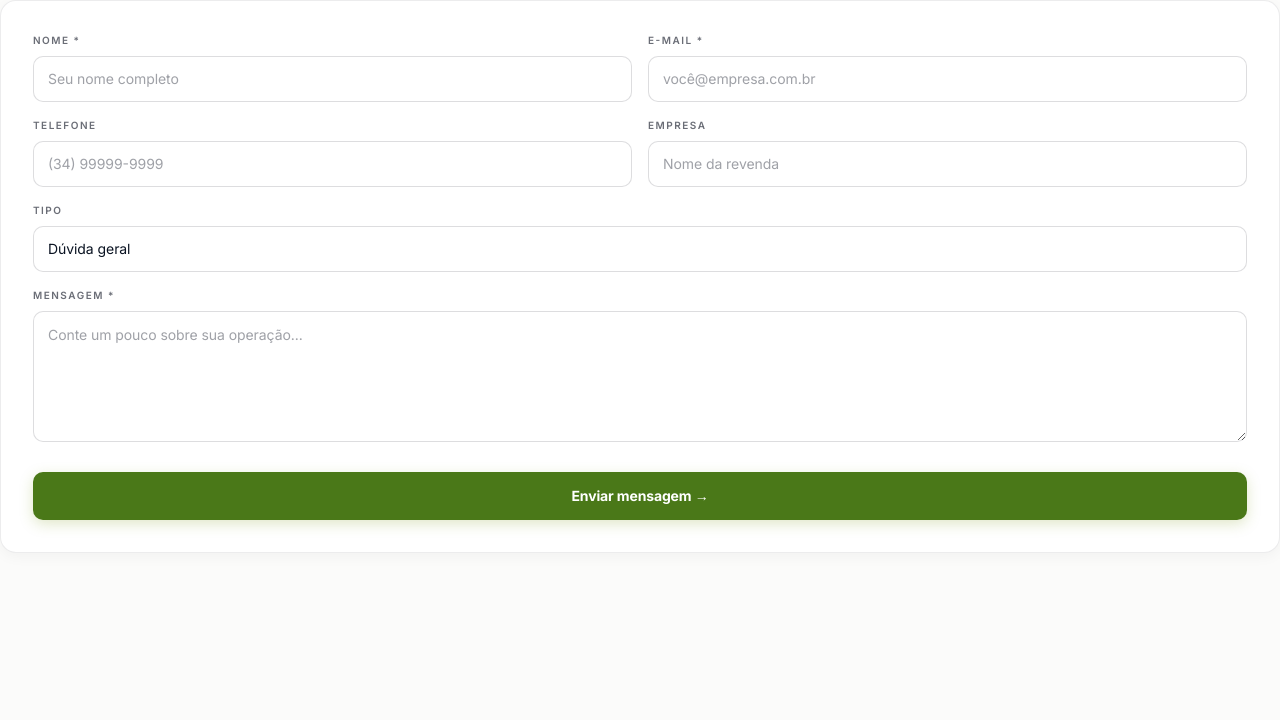
Test: <ContactForm> › shows error message when API returns non-ok
Type "Erro" into the field labelled "Nome *". click: (332, 79)
box: [33,56,632,102]
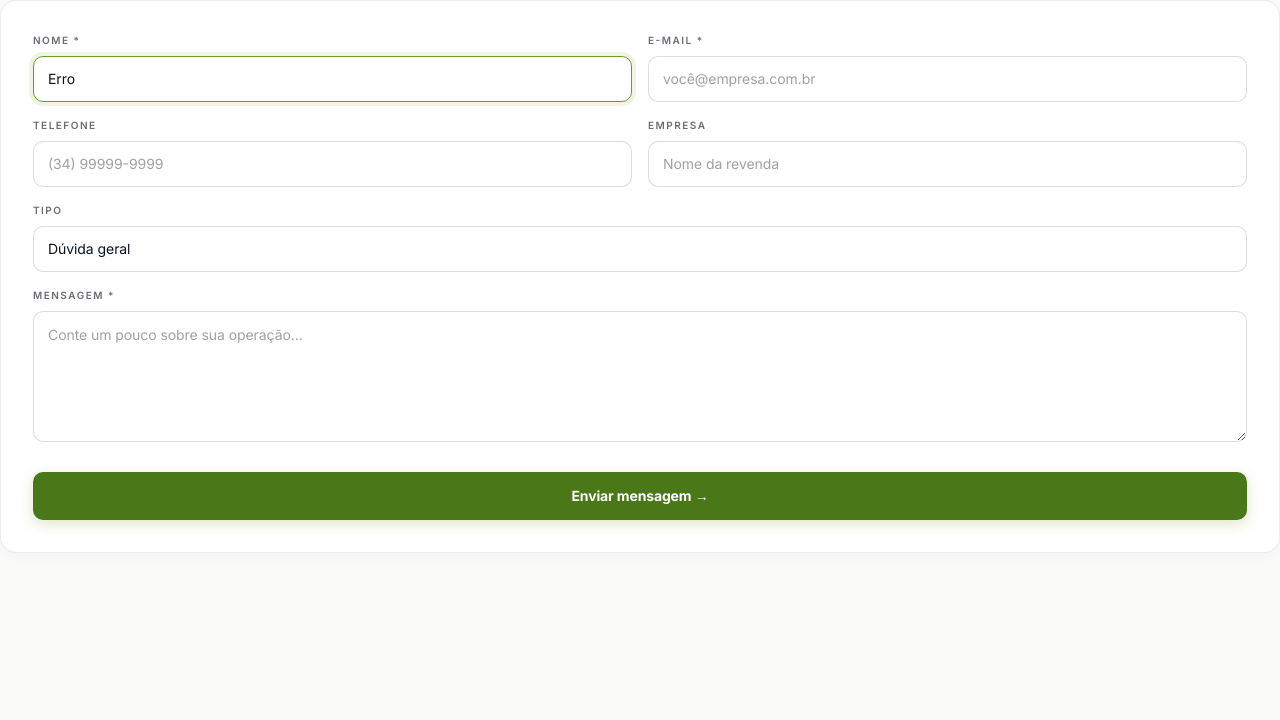
Type "erro@x.com" into the field labelled "E-mail *". click: (948, 79)
box: [648,56,1247,102]
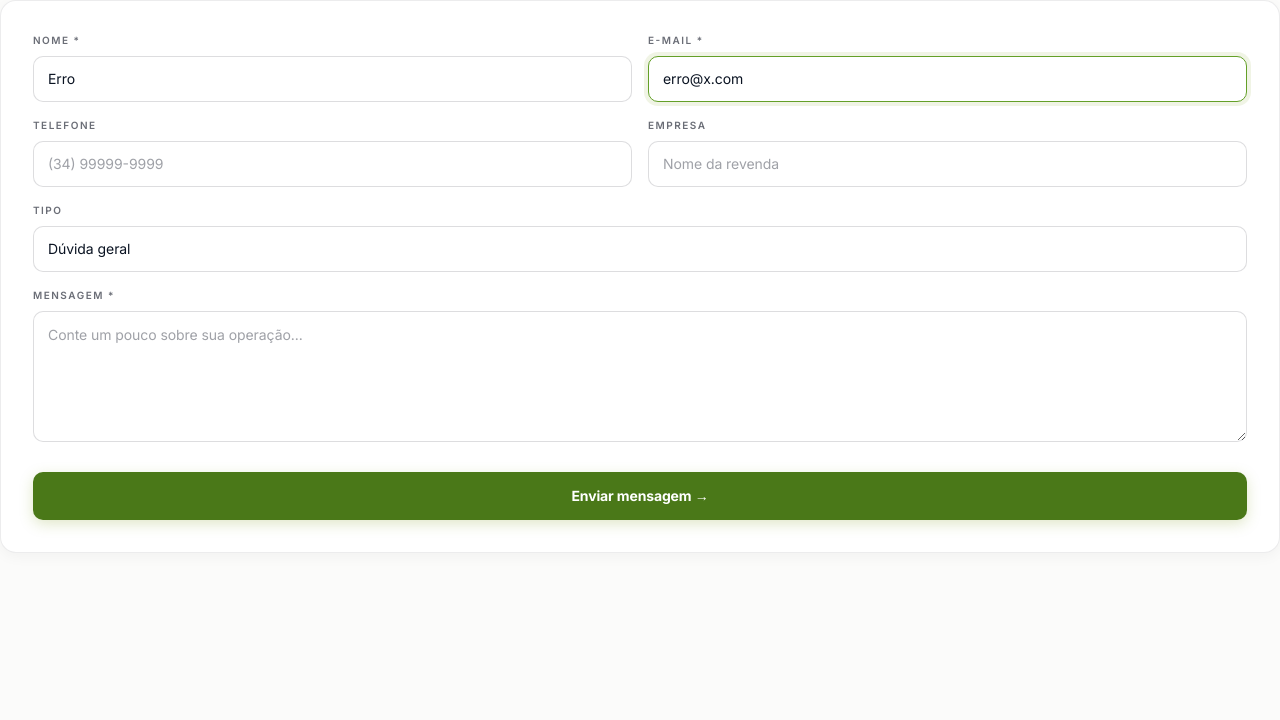
Type "Vai dar erro propositalmente." into the text box labelled "Mensagem *". click: (640, 376)
box: [33,311,1247,442]
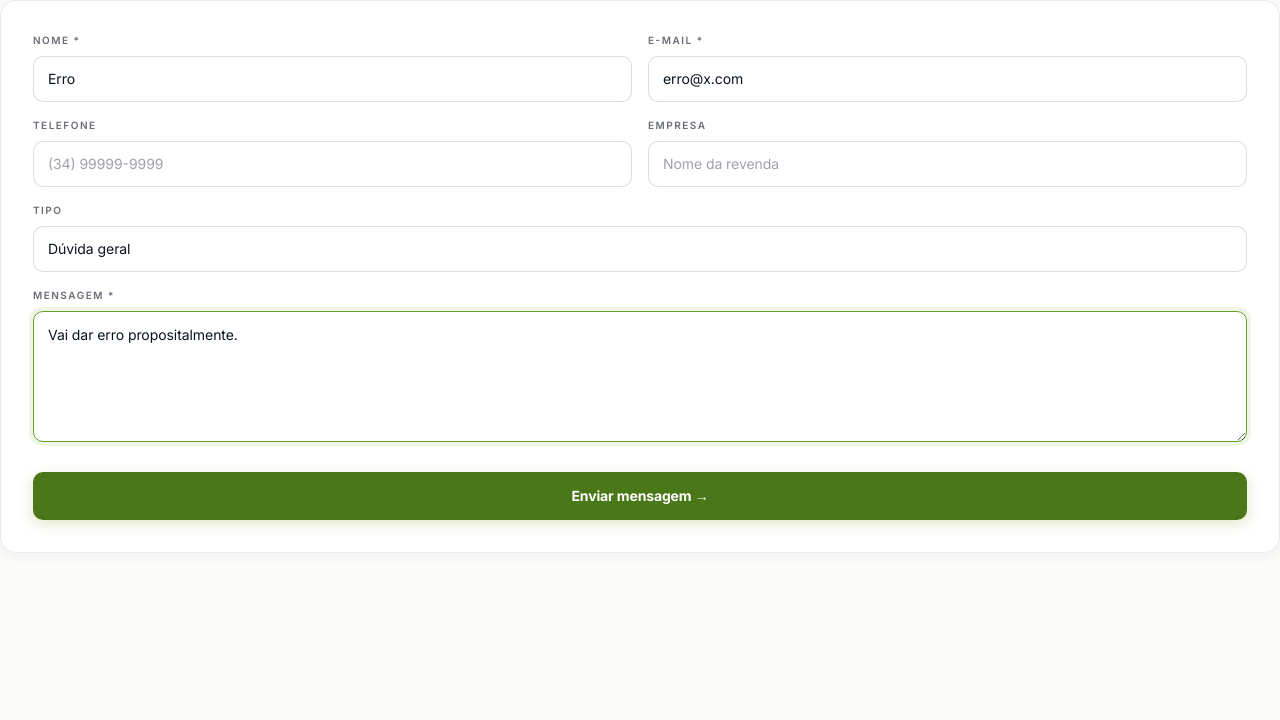
Click the button "Enviar mensagem →". click: (640, 496)
box: [33,472,1247,520]
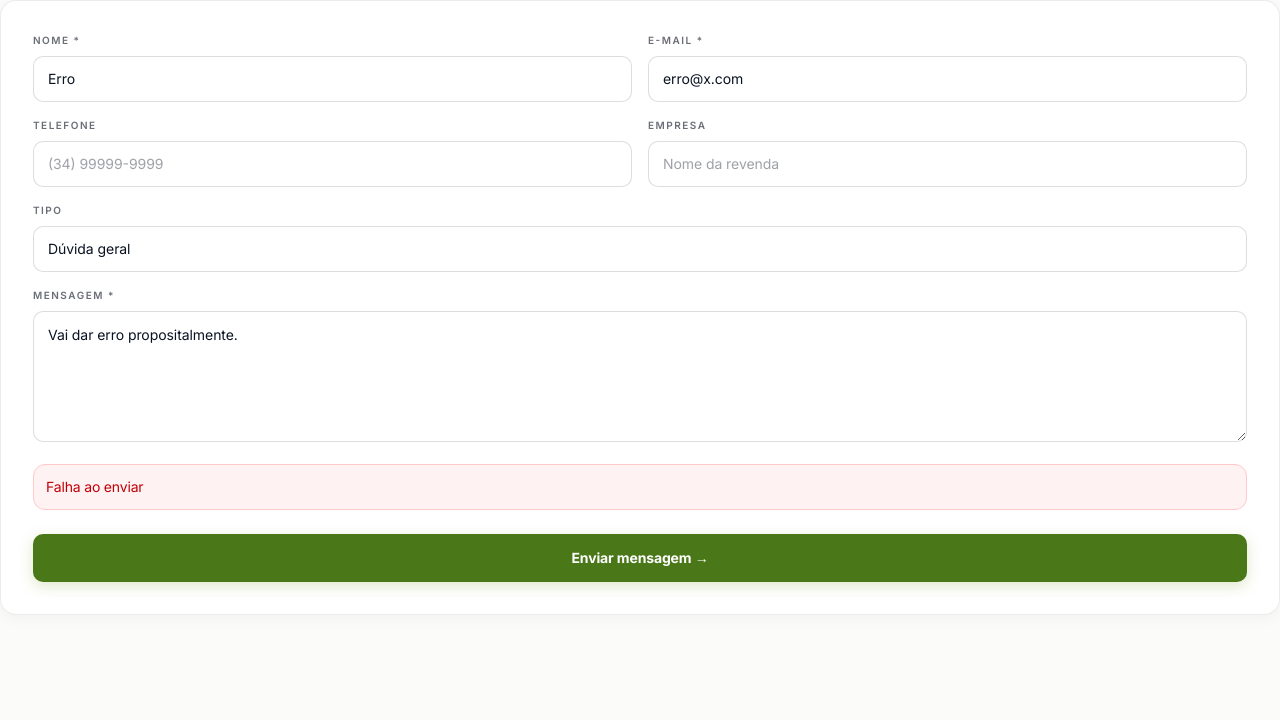
Now the text "Falha ao enviar" is shown, box [33,464,1247,510]
